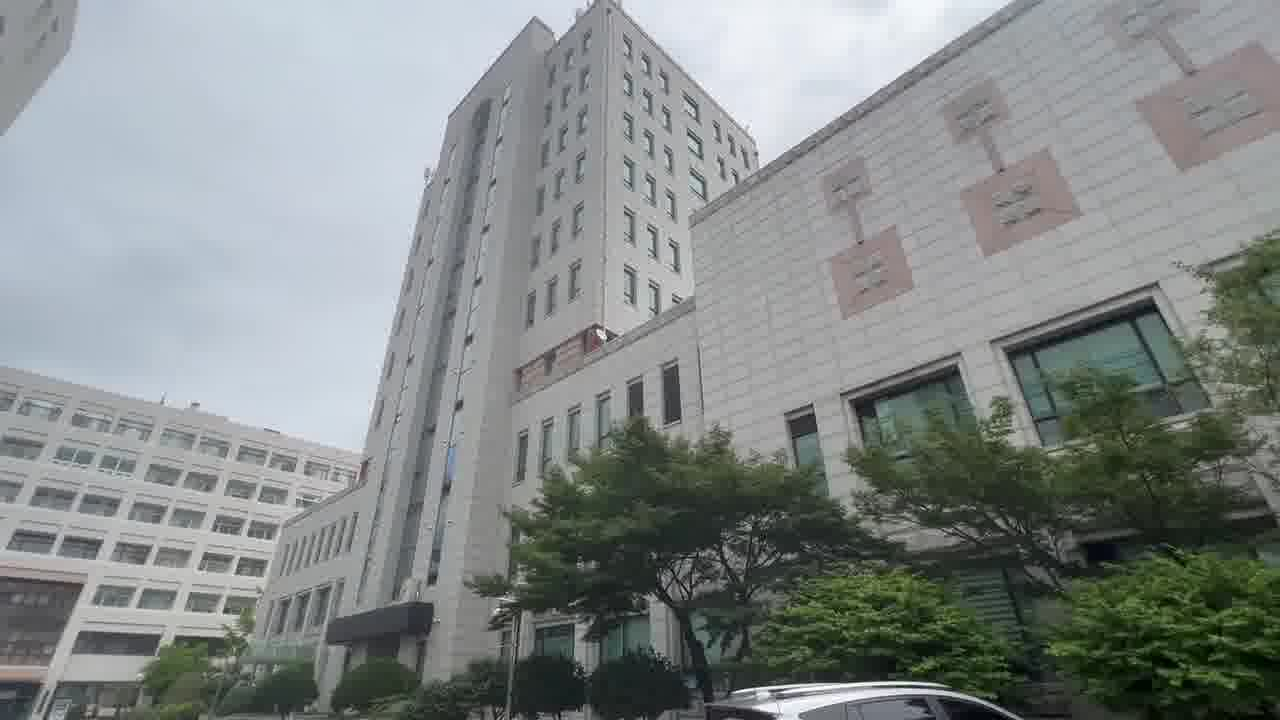low: (397, 11, 1128, 403)
